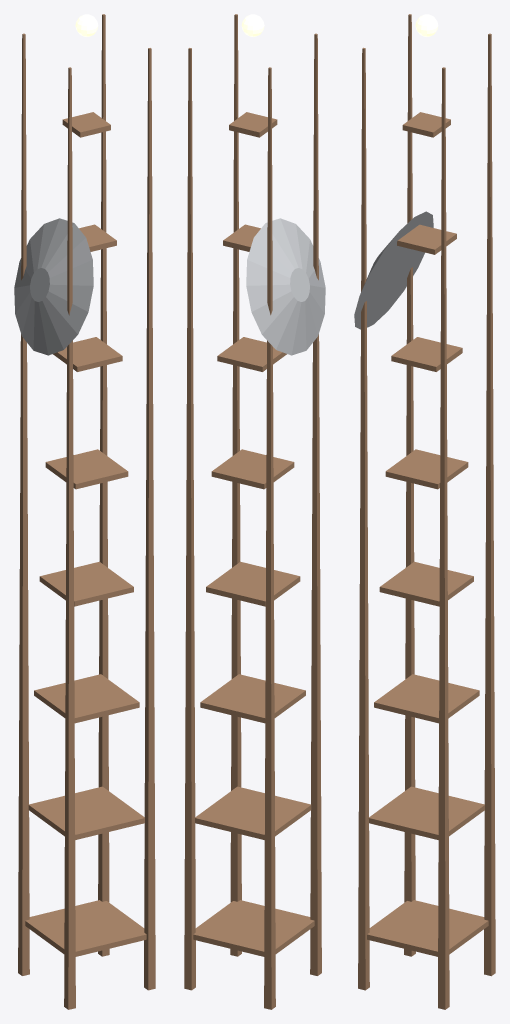
Rendered from AntennaMast.fbx.
The picture shows the model from 3 angles, left to right: view 1: azimuth 30°, elevation 25°; view 2: azimuth 150°, elevation 25°; view 3: azimuth 330°, elevation 25°; orthographic projection.
Visible parts, largest first — view 1: AntennaMast_Mesh; view 2: AntennaMast_Mesh; view 3: AntennaMast_Mesh.
Part boxes in pixels (x1,y1,x2,y2): AntennaMast_Mesh: (14,14,155,1009); AntennaMast_Mesh: (184,14,325,1009); AntennaMast_Mesh: (354,14,495,1009).
Bounding box in the file's own units: 1.94 × 2.4 × 18.5.
